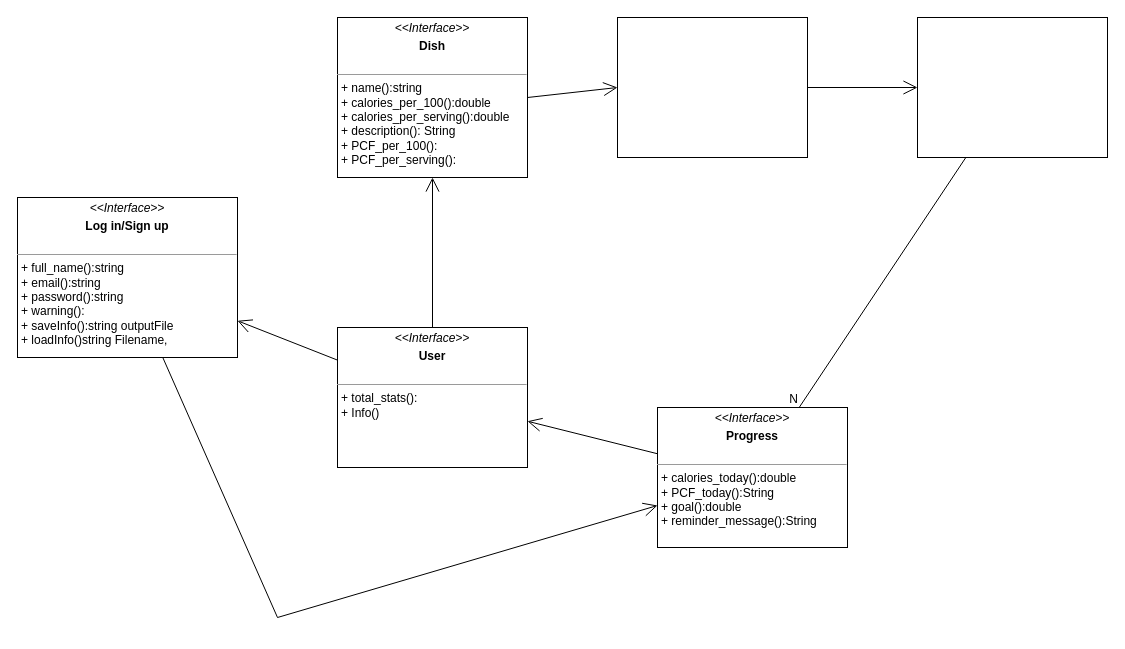
Some shapes in this 1125 by 649 pixel diagram are drawn without their labels. The shapes that lost their labels are listed below. From the top down, each one's centre as x and y in pixels, then its label:
At point 712,87: "<<Interface>> Weight + grams: double".
At point 1012,87: "<<Interface>> Calculator + total_calories():int".
